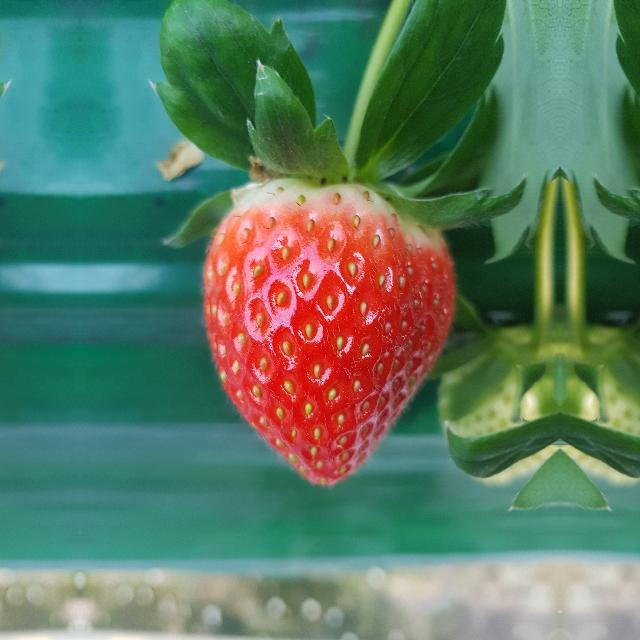Health_100: (200, 177, 456, 487)
